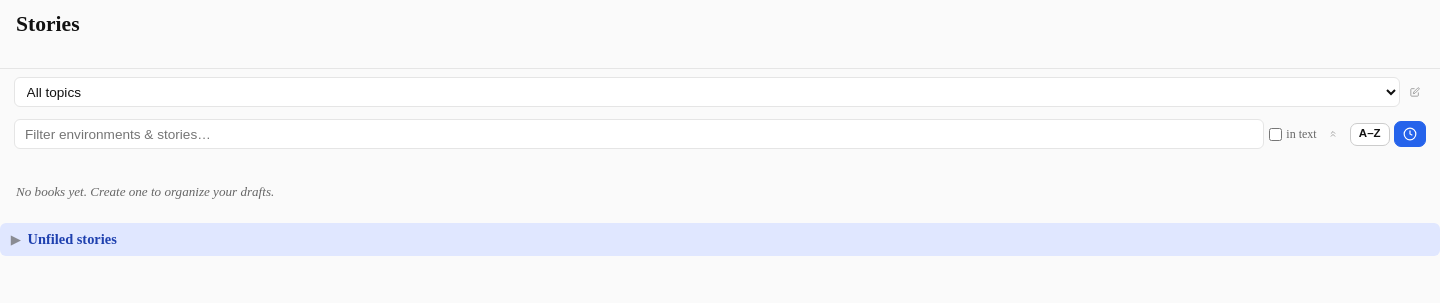
SideBarComponent › inline chat-title editing › renames a chat in the unassigned block too
Click the button with class "expand-btn".
click(16, 240)  # box [5,229,27,251]
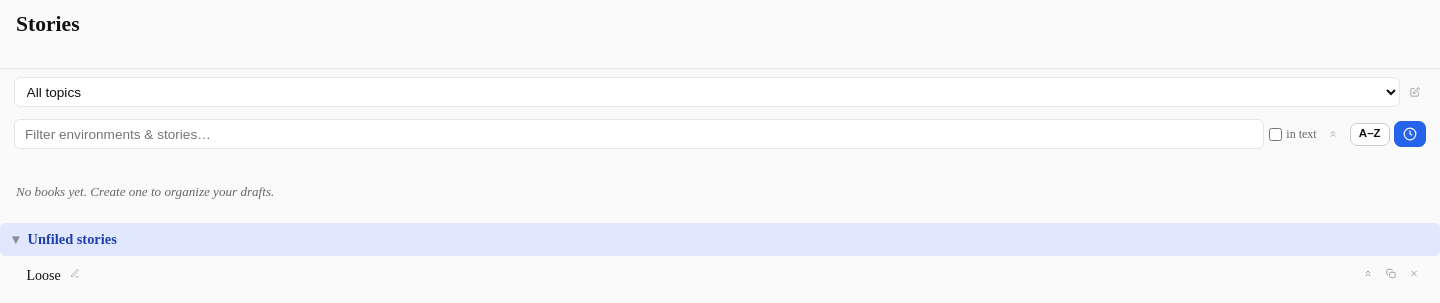
Click the button named "Rename story".
click(75, 274)  # box [64,262,86,284]
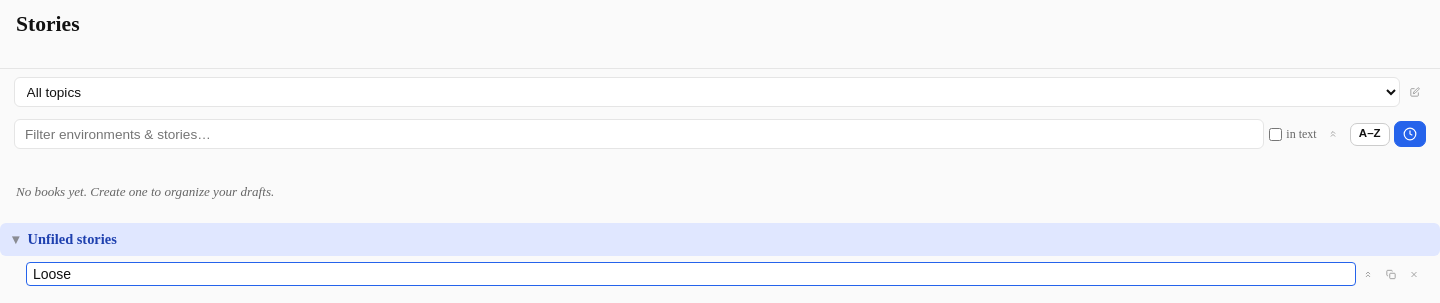
Replace the text in the field with class "chat-title-input" with "Tight" at (691, 274), box [26,262,1356,286]
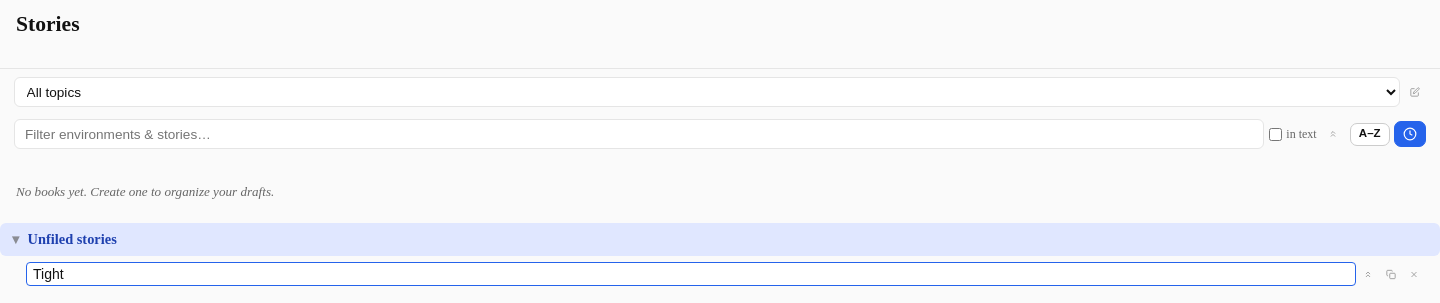
Press Enter in the field with class "chat-title-input", box [26,262,1356,286]
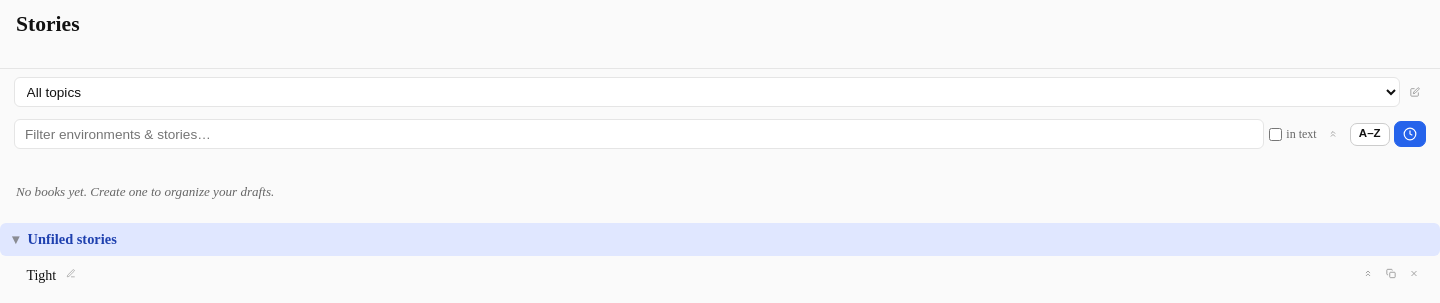
Expected: the element showing "Tight" is shown, [26,262,82,284]
